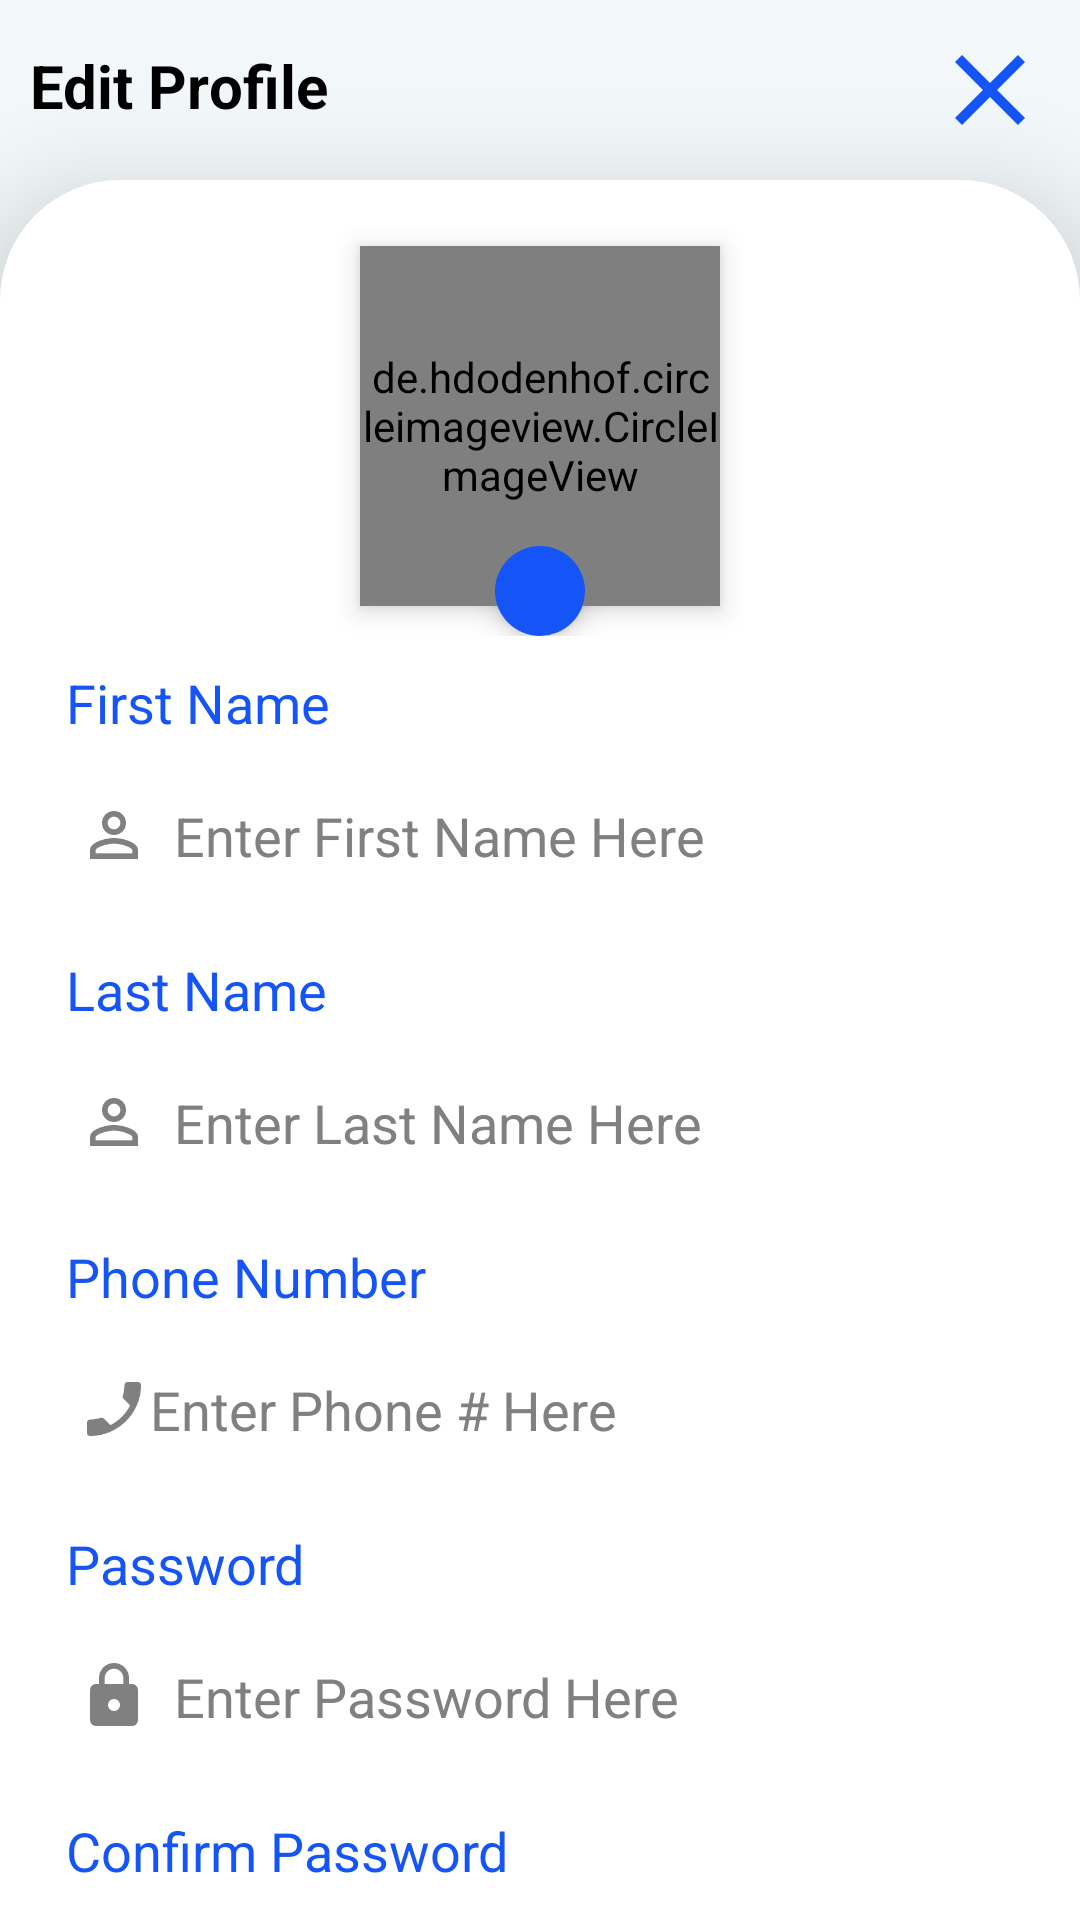

Named icons in this screenshot (1080w x 1920h) and their bounding boxes, (x1, y1, x2, y2):
close: (955, 55, 1025, 125)
